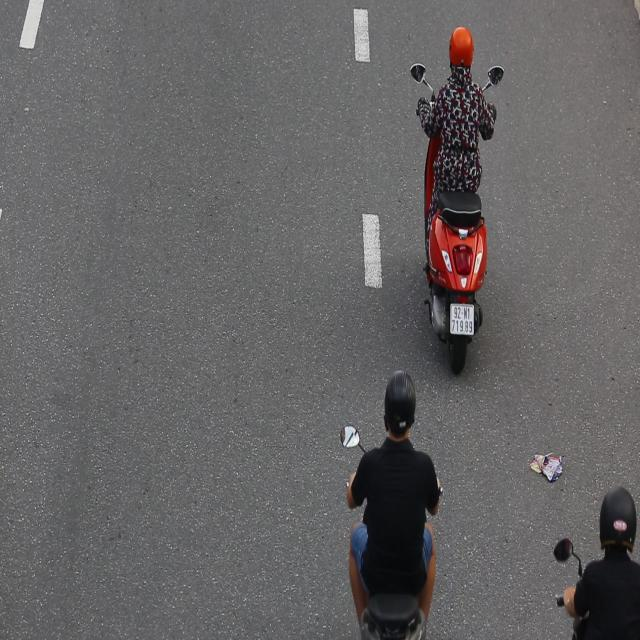motorbike: (407, 14, 506, 372)
